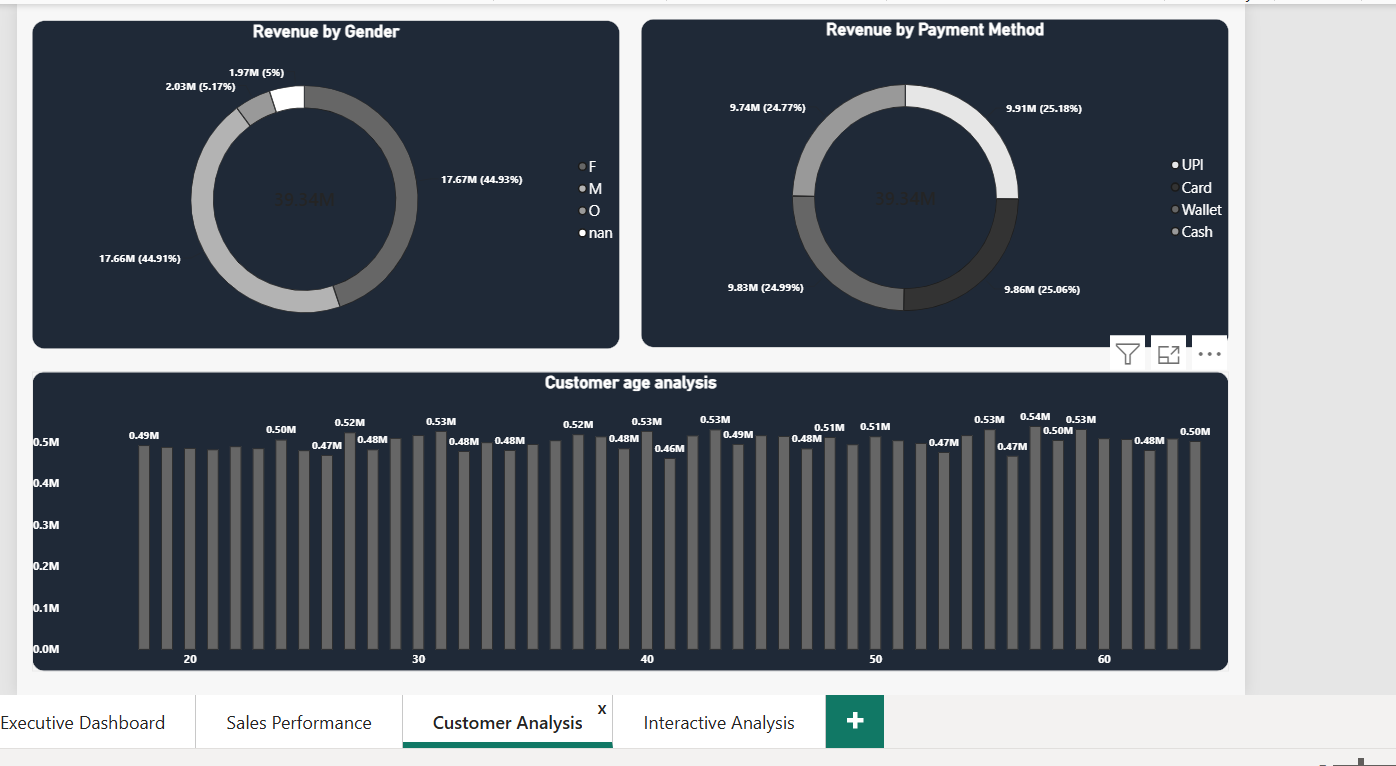

This screenshot's page, from the dashboard's own definition file:
{"tool":"powerbi","page":{"name":"Customer Analysis","canvas":[1920,1080],"ordinal":2},"visuals":[{"type":"donutChart","title":"Revenue by Gender","fields":{"Category":["Fact sales.Customer_Gender"],"Y":["Fact sales.Total Revenue"]},"box":[22.7,25.5,918.4,513.1],"z":0},{"type":"donutChart","title":"Revenue by Payment Method","fields":{"Y":["Fact sales.Total Revenue"],"Category":["Fact sales.Payment_Mode"]},"box":[975.3,23.4,918.4,513.1],"z":1000},{"type":"columnChart","title":"Customer age analysis","fields":{"Category":["Fact sales.Customer_Age"],"Y":["Fact sales.Total Revenue"]},"box":[23.4,574.4,1870.9,468.9],"z":2000}]}

Visuals, with their boxes on the page's 1920x1080 design canvas (x1, y1, x2, y2). These are canvas units, not pixel positions in the 1396x766 screenshot, which may show the page scaled, cropped or inside an application window:
"Revenue by Gender" donutChart: bbox=[23, 26, 941, 539]
"Revenue by Payment Method" donutChart: bbox=[975, 23, 1894, 536]
"Customer age analysis" columnChart: bbox=[23, 574, 1894, 1043]
